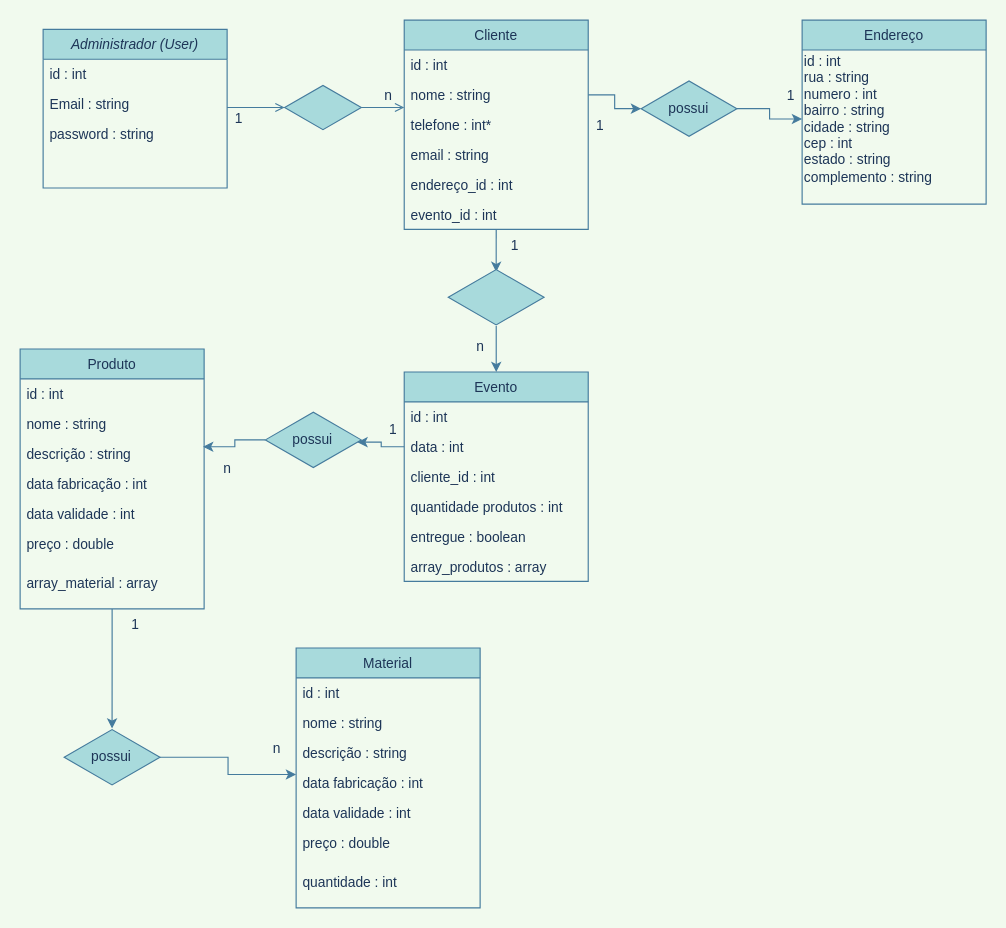
This 1006x928 diagram has some shape labels left out. The centre of each missing label's shape, as x and y in pixels:
"agenda" goes at (495,296).
"cadastra" goes at (322,107).
